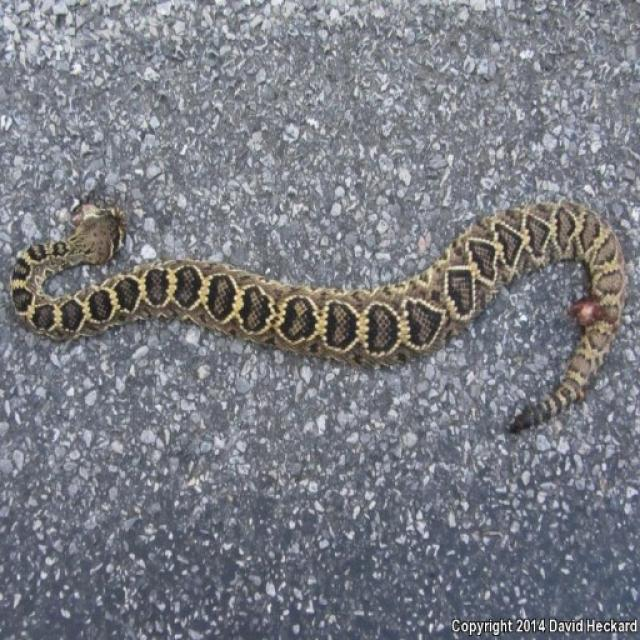snake: (6, 181, 640, 449)
